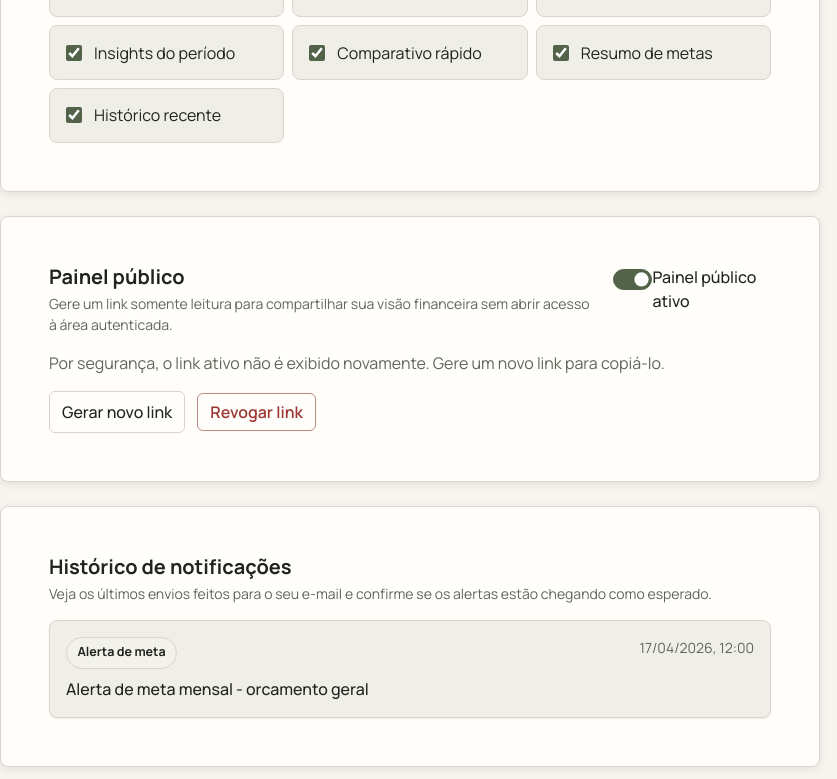
Profile page › rotates and reveals a newly issued public link
(page scrolled)
Click the button "Gerar novo link".
click(117, 412)  # box [49,391,185,433]
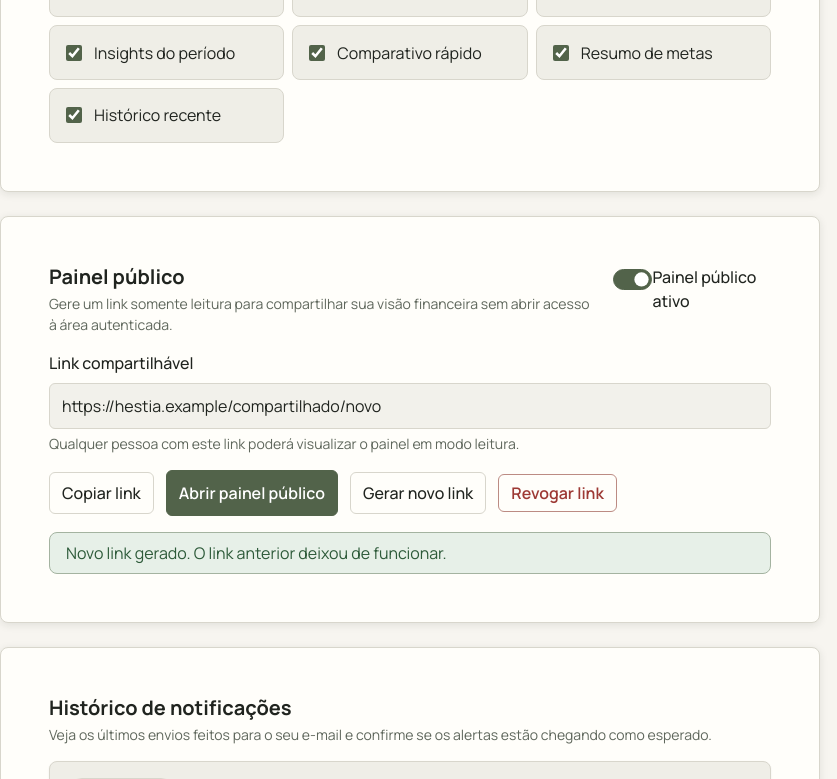
Now the field showing "https://hestia.example/compartilhado/novo" is shown, box [49,383,771,429]
